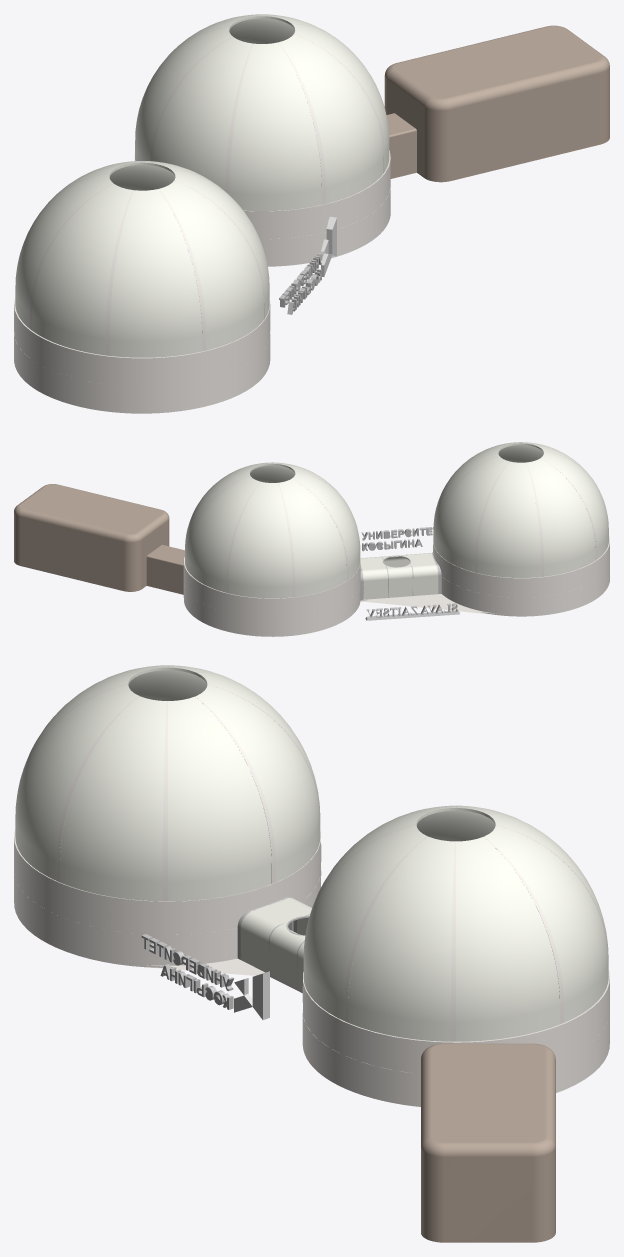
The model's file is VR_Muzey_Slavy_Zaytseva_FULL.fbx.
3 renders of one model, top to bottom at view 1: azimuth 30°, elevation 25°; view 2: azimuth 150°, elevation 25°; view 3: azimuth 270°, elevation 25°, orthographic. The views are drawn at different scales.
Visible parts, largest first — view 1: GlassDome.001, GlassDome, Body152, Body106, Body103, Body15, Body1, DomeFrame, DomeFrame.001, Floor, Body61, Body5 (1); view 2: GlassDome, GlassDome.001, Body152, Body15, Body106, Body1, Body38, Body103, Floor, DomeFrame, DomeFrame.001, Body61 (+1 smaller); view 3: GlassDome, GlassDome.001, Body152, Body106, Body15, Body103, Body1, Body38, DomeFrame, DomeFrame.001, Body61, Floor (+1 smaller).
Part boxes in pixels (bbox=[...]): GlassDome.001: bbox=[15, 161, 269, 357]; GlassDome: bbox=[135, 14, 389, 211]; Body152: bbox=[384, 25, 609, 180]; Body106: bbox=[14, 298, 270, 386]; Body103: bbox=[14, 332, 270, 411]; Body15: bbox=[134, 150, 390, 239]; Body1: bbox=[260, 188, 390, 264]; DomeFrame: bbox=[30, 161, 265, 355]; DomeFrame.001: bbox=[150, 15, 384, 204]; Floor: bbox=[14, 137, 609, 413]; Body61: bbox=[279, 253, 322, 314]; Body5 (1): bbox=[321, 216, 336, 276]; GlassDome: bbox=[184, 462, 360, 598]; GlassDome.001: bbox=[433, 442, 608, 577]; Body152: bbox=[14, 484, 184, 593]; Body15: bbox=[183, 557, 360, 617]; Body106: bbox=[433, 536, 609, 597]; Body1: bbox=[183, 582, 360, 635]; Body38: bbox=[360, 553, 438, 599]; Body103: bbox=[441, 562, 609, 615]; Floor: bbox=[14, 561, 609, 636]; DomeFrame: bbox=[435, 442, 597, 576]; DomeFrame.001: bbox=[187, 463, 349, 597]; Body61: bbox=[361, 527, 433, 551]; GlassDome: bbox=[303, 805, 608, 1041]; GlassDome.001: bbox=[15, 665, 319, 901]; Body152: bbox=[421, 1043, 555, 1240]; Body106: bbox=[14, 829, 321, 934]; Body15: bbox=[302, 970, 609, 1073]; Body103: bbox=[14, 868, 321, 965]; Body1: bbox=[302, 1009, 609, 1104]; Body38: bbox=[240, 897, 311, 990]; DomeFrame: bbox=[15, 665, 320, 901]; DomeFrame.001: bbox=[304, 805, 608, 1041]; Body61: bbox=[141, 934, 234, 1009]; Floor: bbox=[14, 901, 609, 1242].
Size of the model in its own units: 6504 by 1641 by 4049.
